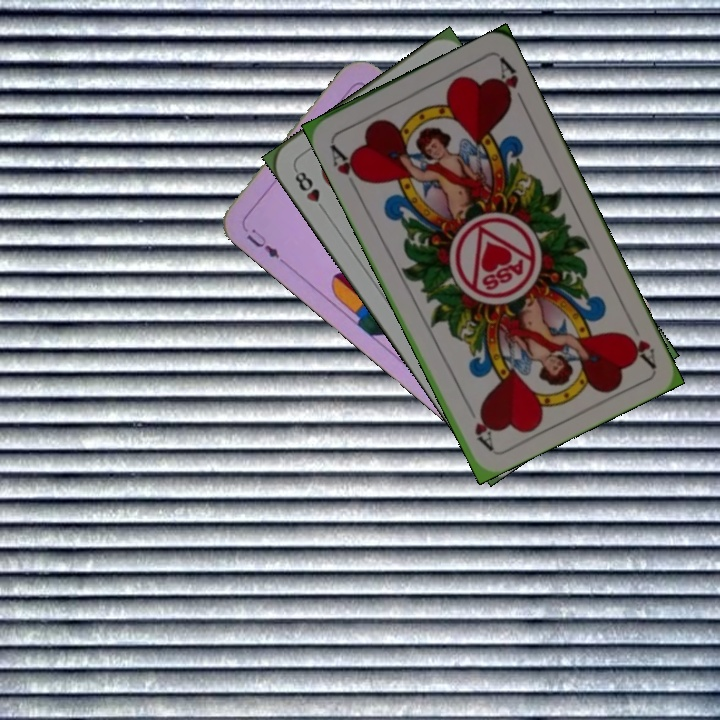EU: (242, 224, 288, 267)
H8: (290, 164, 330, 216)
HA: (326, 138, 367, 193), (621, 314, 659, 370)
